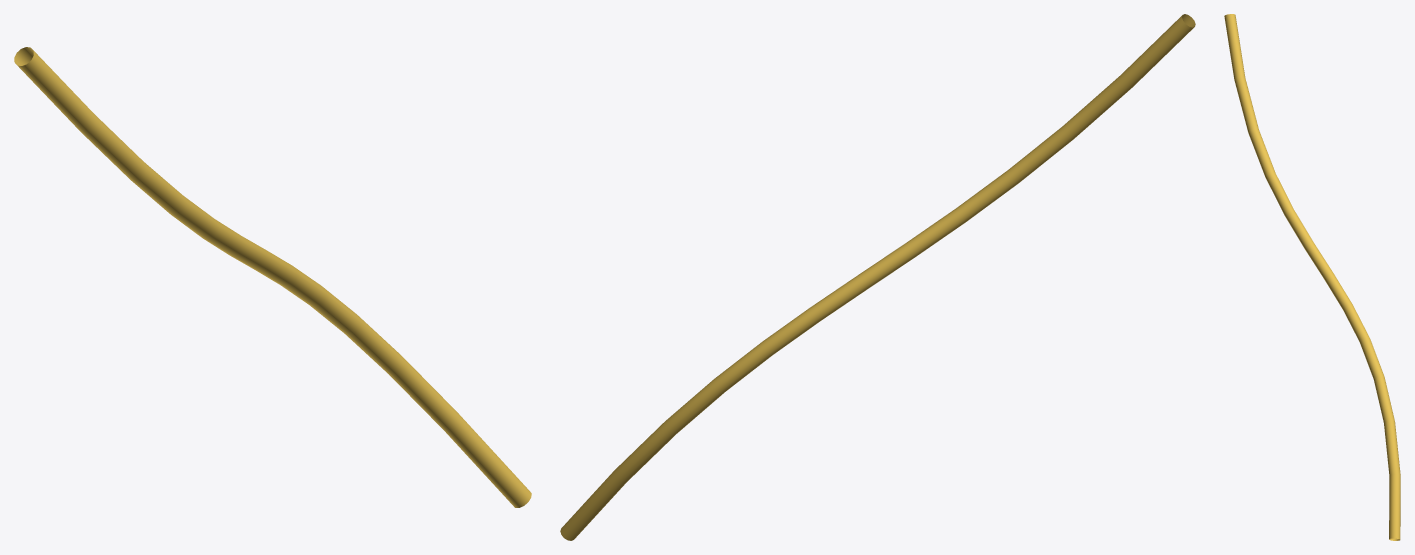
File: Superior_trunk_brachial_plexus_left.glb
3 views of the same model, side by side, from view 1: azimuth 30°, elevation 25°; view 2: azimuth 150°, elevation 25°; view 3: azimuth 270°, elevation 25° (orthographic). The views are drawn at different scales.
Parts seen in each view (by area): view 1: Superior_trunk_of_brachial_plexus.l_BezierCurve.401; view 2: Superior_trunk_of_brachial_plexus.l_BezierCurve.401; view 3: Superior_trunk_of_brachial_plexus.l_BezierCurve.401.
Part boxes in pixels (x1=…): Superior_trunk_of_brachial_plexus.l_BezierCurve.401: x1=14, y1=47, x2=531, y2=507; Superior_trunk_of_brachial_plexus.l_BezierCurve.401: x1=560, y1=14, x2=1195, y2=540; Superior_trunk_of_brachial_plexus.l_BezierCurve.401: x1=1224, y1=14, x2=1400, y2=540.
Bounding box in the file's own units: 0.0342 × 0.0355 × 0.0154.
